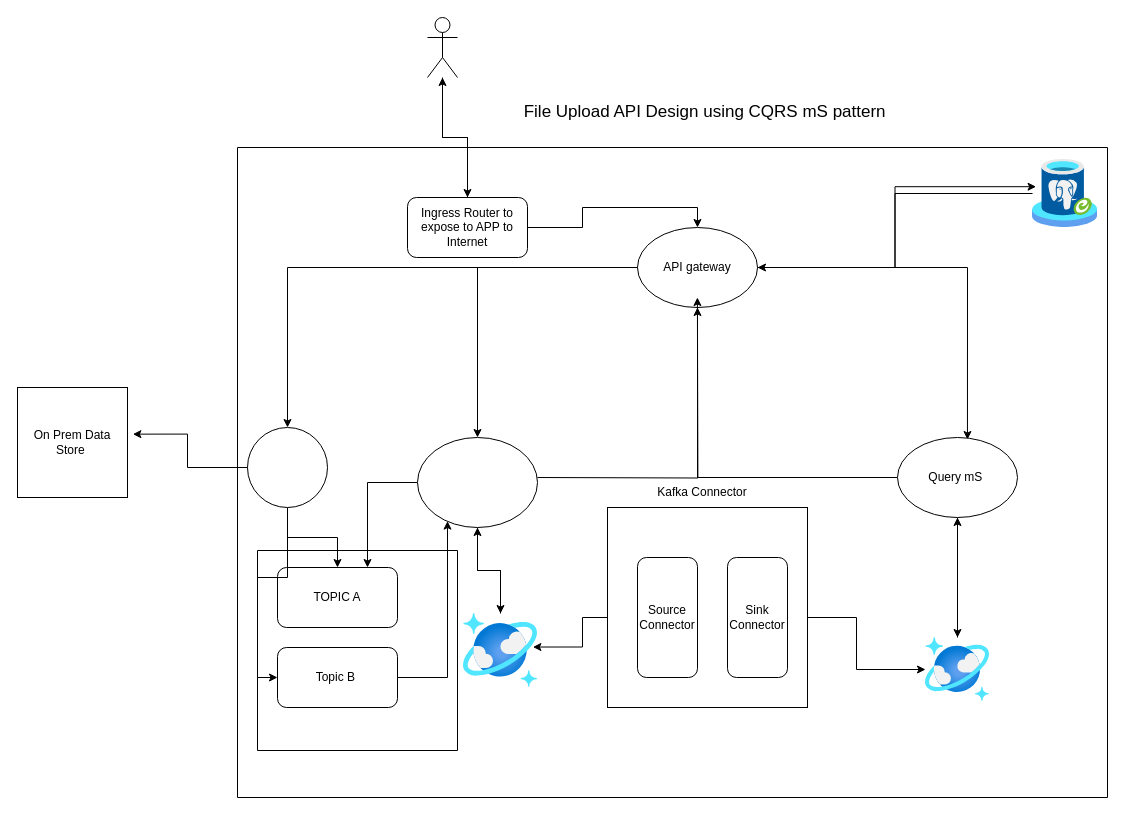
This 1125x815 diagram has some shape labels left out. Here are the shapes that lost their labels. From the top down, the centre of each, then its label:
At [442,47]: "Actor".
At [287,467]: "AWS direct connect".
At [477,482]: "Command mS".
At [357,650]: "Kafka Cluster".
